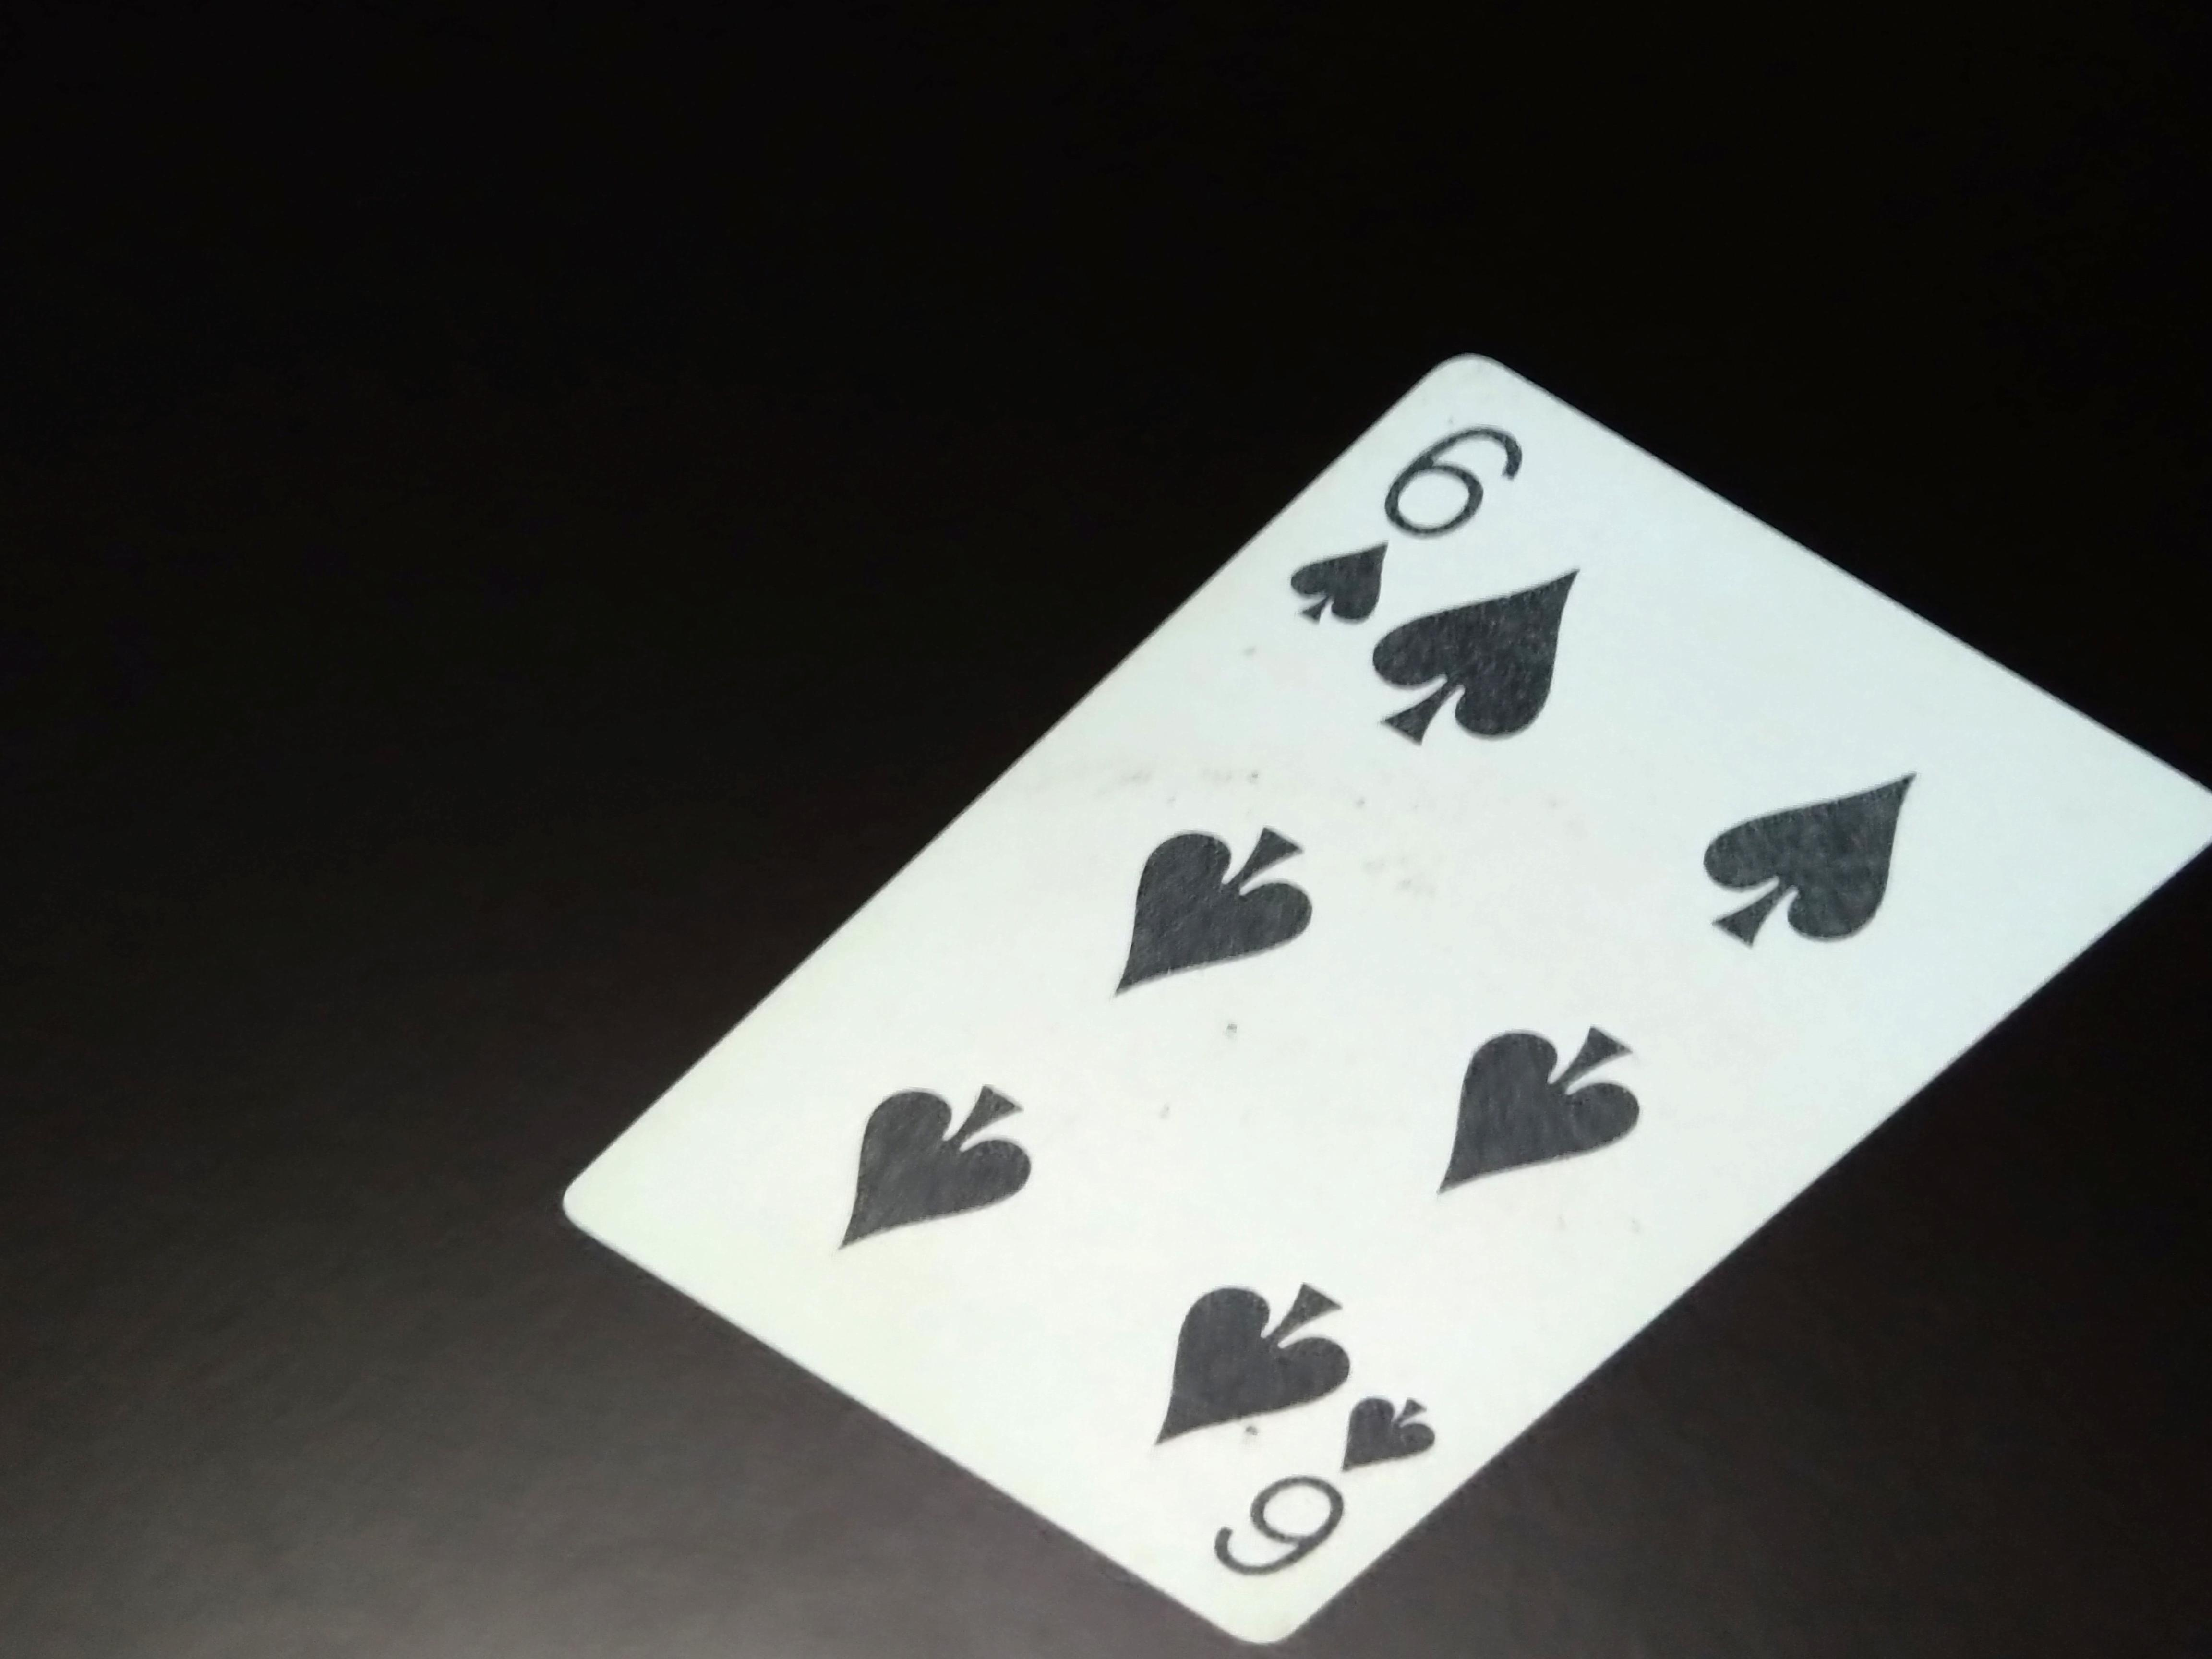6S: (1273, 385, 1536, 629)
